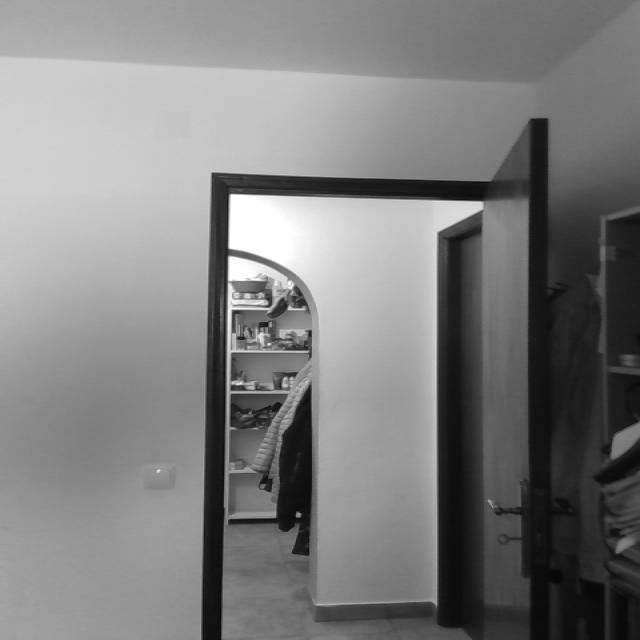door: (188, 113, 561, 640)
